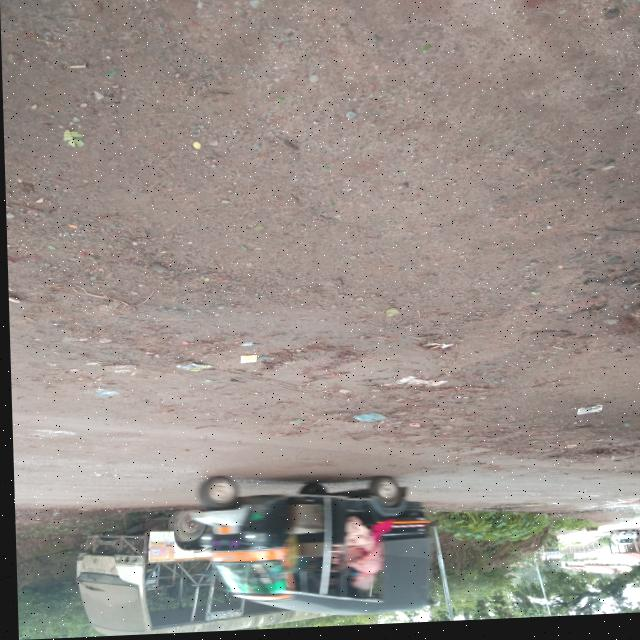plate: (623, 539, 629, 541)
